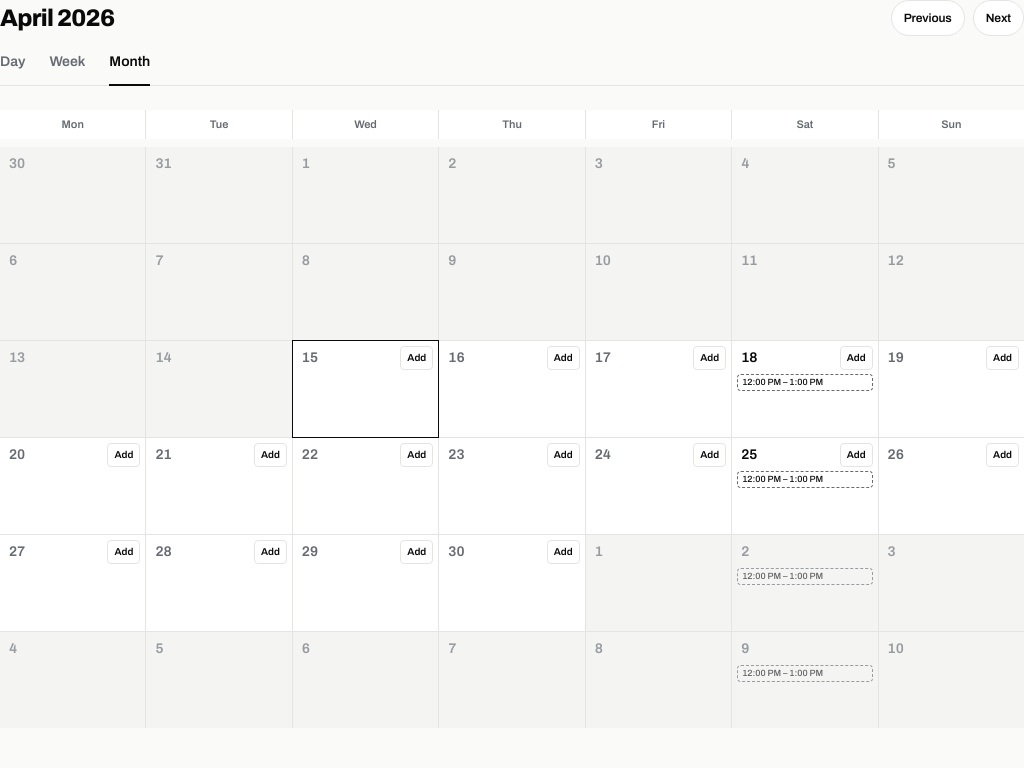
Scenario: TeacherAvailabilityCalendar › updating a weekly slot asks whether to change one time or every time
Click the 1st button "12:00 PM – 1:00 PM": [805, 382] box x1=737 y1=374 x2=872 y2=391
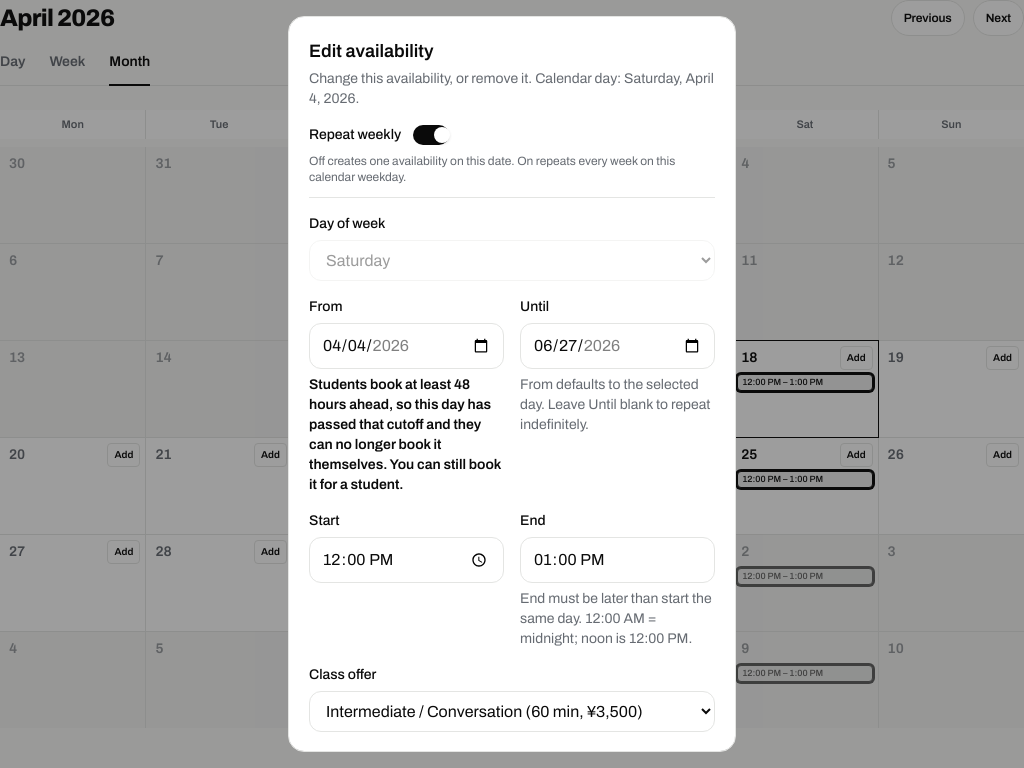
Replace the text in the time field showing "12:00" with "14:00": [406, 560] box x1=309 y1=537 x2=504 y2=583
(page scrolled)
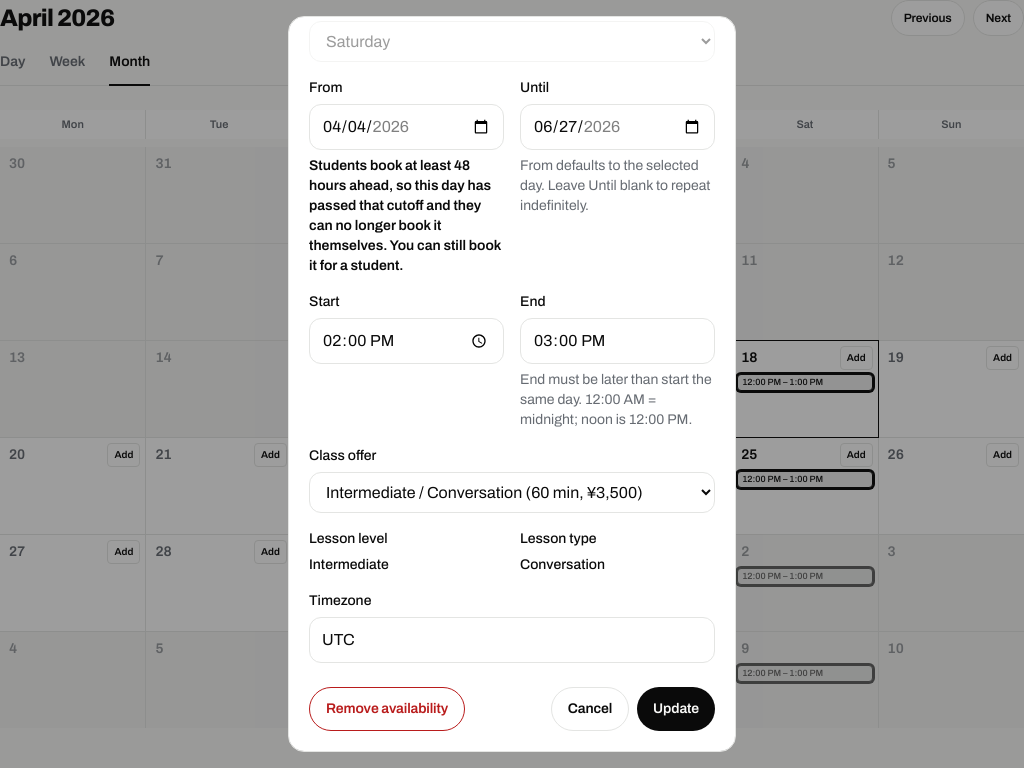
Click the button "Update": [676, 709] box x1=637 y1=687 x2=715 y2=731
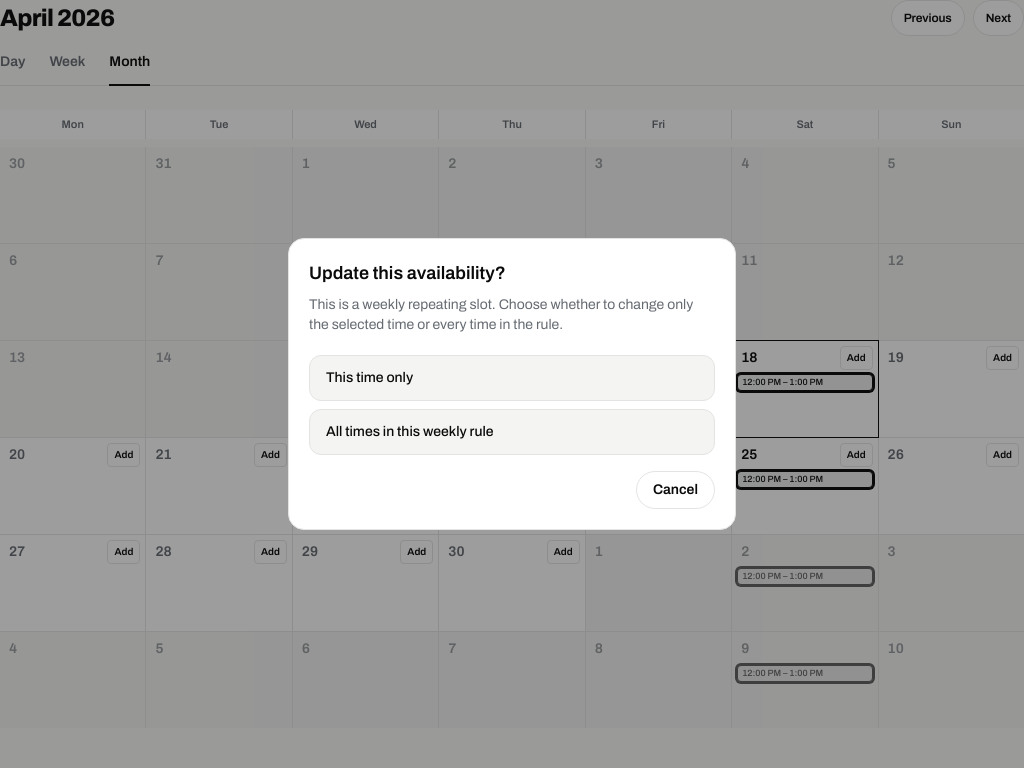
Result: the dialog "Update this availability?" is shown
